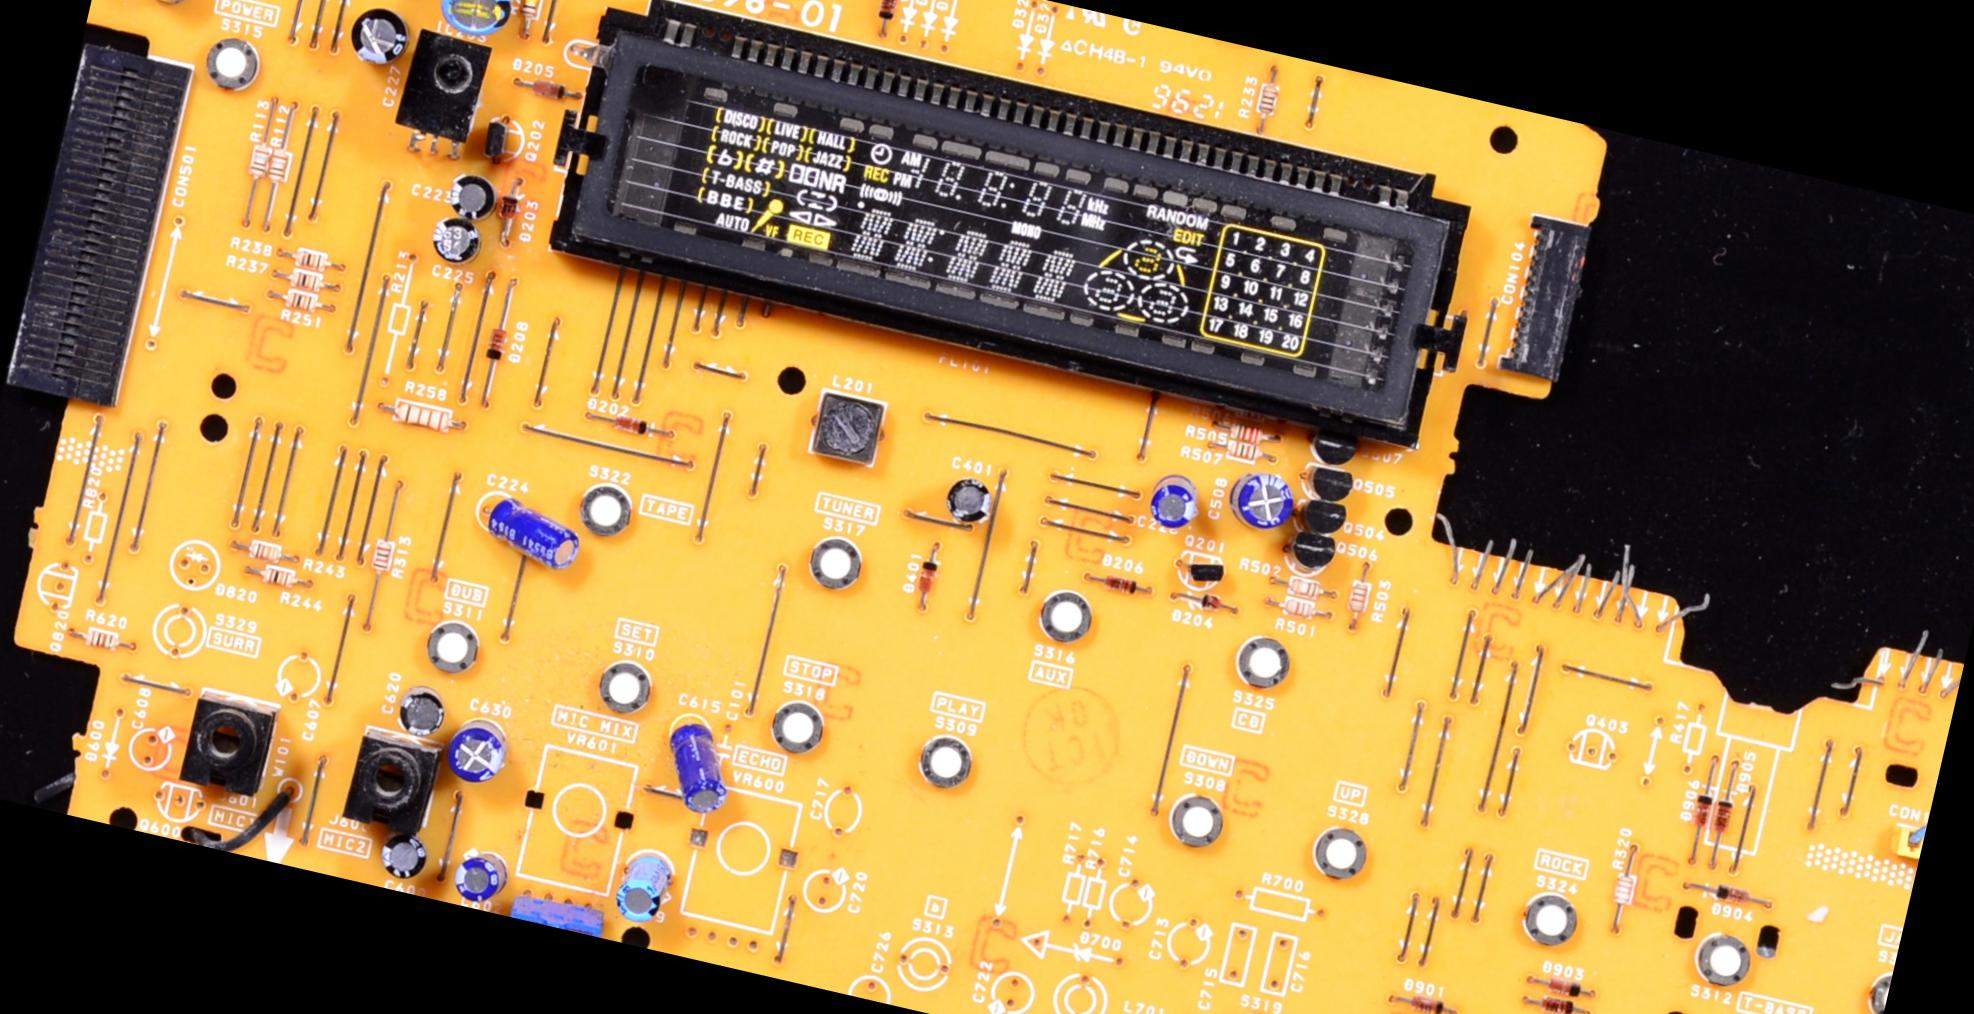Capacitor Jumper: (468, 489, 586, 582), (654, 719, 733, 816), (1219, 464, 1302, 537), (608, 848, 677, 931), (343, 0, 414, 72), (443, 714, 511, 786), (427, 0, 533, 41), (442, 163, 507, 225), (424, 213, 483, 273), (449, 847, 505, 909), (1144, 469, 1201, 532), (940, 473, 999, 532), (396, 684, 452, 741), (372, 832, 432, 886), (137, 0, 206, 16)
Resistor Jumper: (1241, 78, 1298, 133), (390, 394, 455, 441), (1600, 864, 1646, 918), (361, 530, 403, 586), (243, 131, 277, 191), (262, 136, 297, 194), (243, 529, 291, 570), (282, 265, 332, 300), (290, 242, 336, 278), (75, 622, 122, 657), (279, 285, 322, 318), (253, 560, 297, 590), (511, 0, 549, 28)
